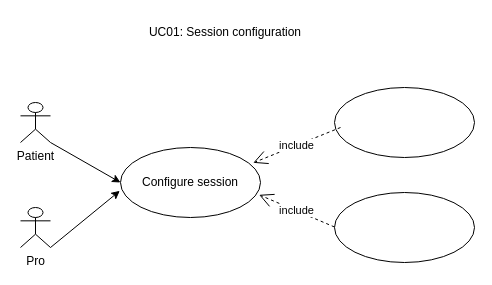
Some shapes in this 492 by 285 pixel diagram are drawn without their labels. The box of each missing label's shape, as (x1, y1, x2, y2) in pixels:
Choose data mode: (334, 192, 474, 262)
Choose data type: (334, 86, 474, 158)
